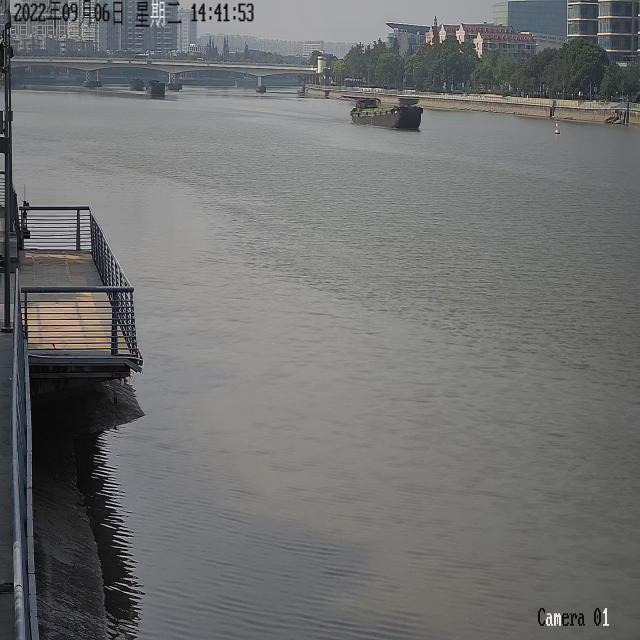ship: (350, 98, 422, 128), (146, 79, 165, 95), (129, 76, 144, 90), (233, 80, 237, 86)
